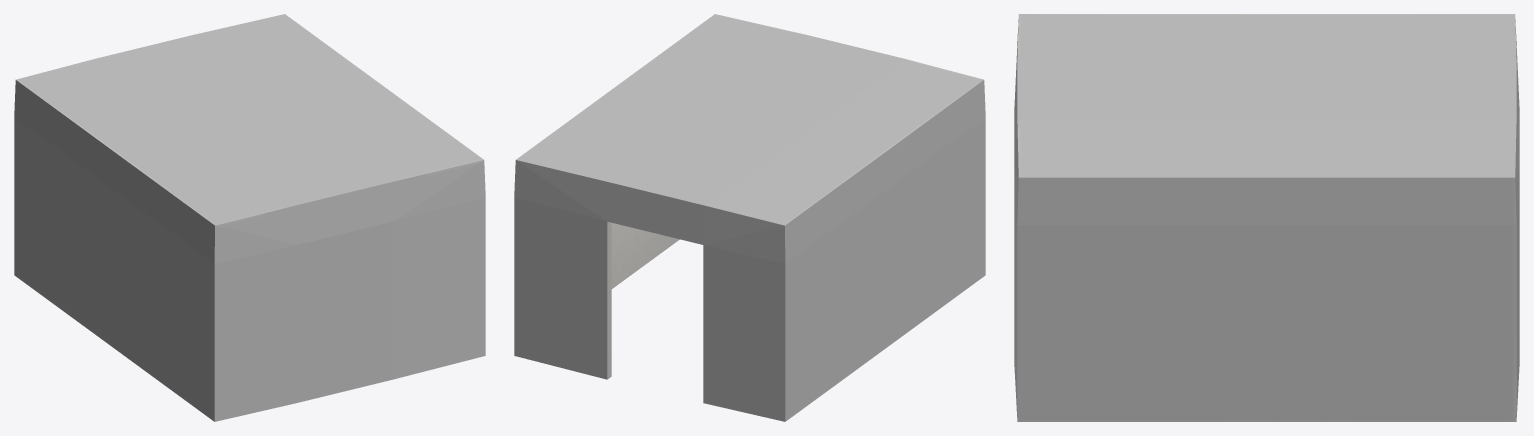
The model's file is wall and celling.dae.
The picture shows the model from 3 angles, left to right: view 1: azimuth 30°, elevation 25°; view 2: azimuth 150°, elevation 25°; view 3: azimuth 270°, elevation 25°; orthographic projection. The views are drawn at different scales.
Parts seen in each view (by area): view 1: Cube; view 2: Cube; view 3: Cube.
Boxes of the visible parts, x1,y1,x2,y2 form: Cube: (14,14,485,421); Cube: (514,14,985,421); Cube: (1014,14,1519,421).
Bounding box in the file's own units: 2.08 × 2.69 × 1.44.
Materials: 1 (1 with a texture image).
